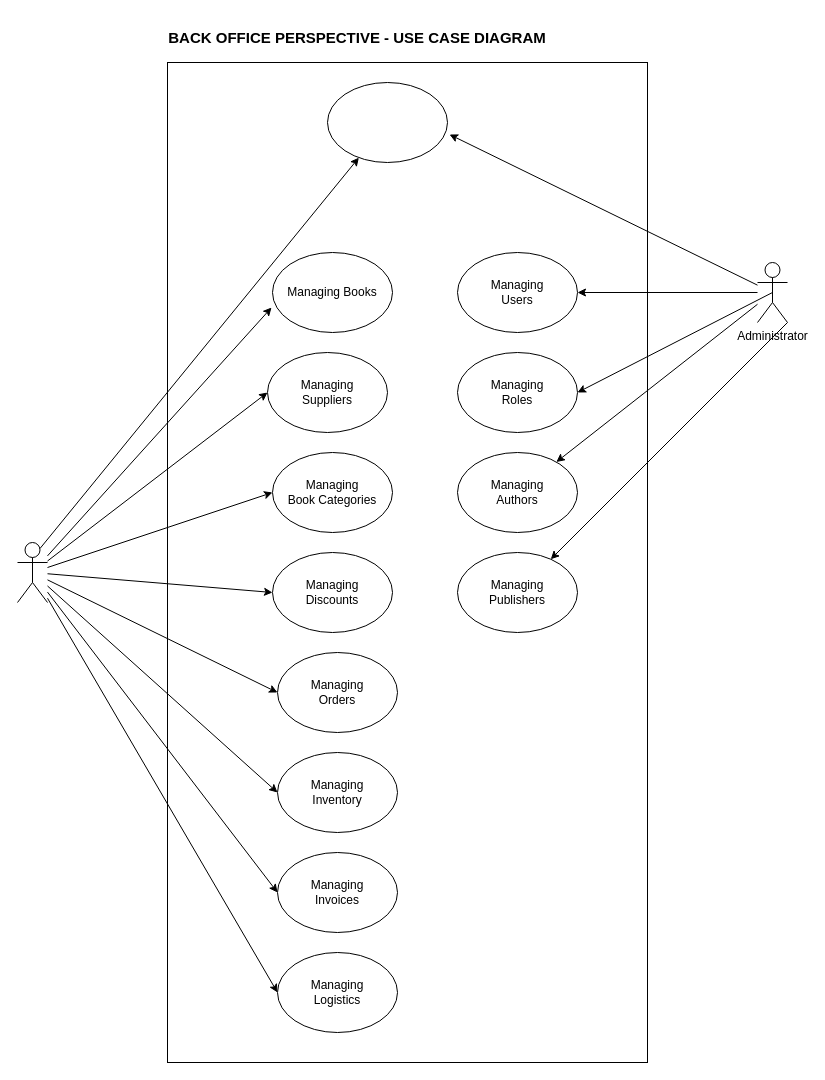
The diagram is 825 pixels wide and 1080 high, and some of its shapes have lost their labels. Each missing label, with the centre of its shape:
Investigating Reports: pixel 387 122
User: pixel 32 572
